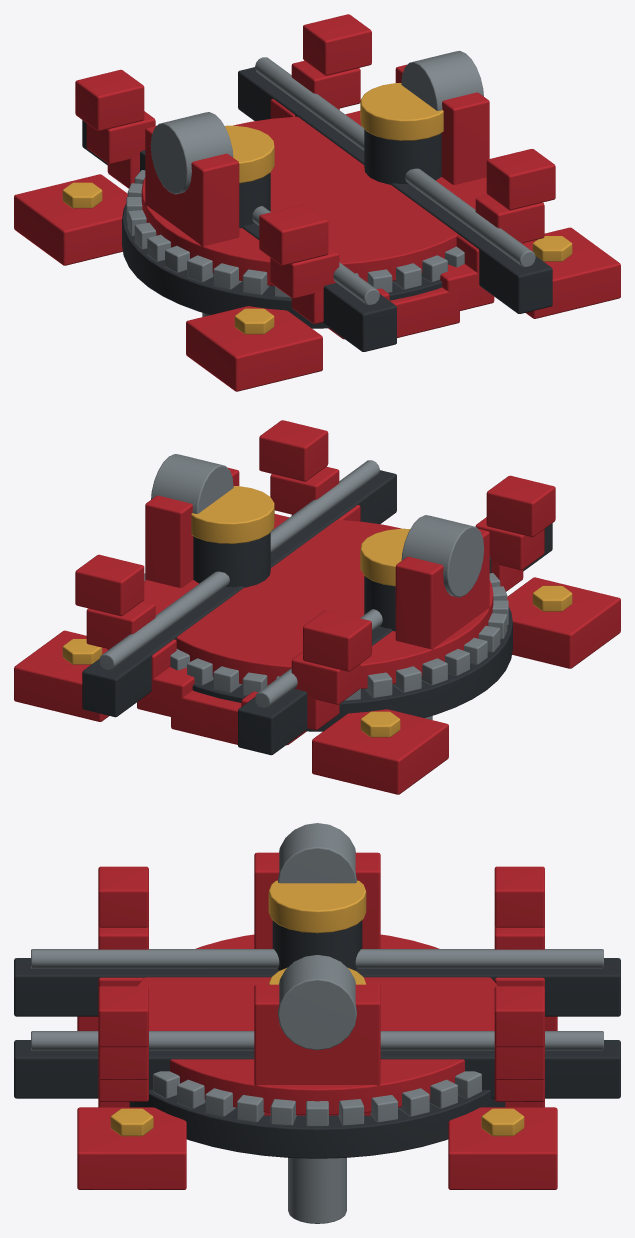
The model's file is MissileLauncher.glb.
3 views of the same model, one above another, from view 1: azimuth 30°, elevation 25°; view 2: azimuth 150°, elevation 25°; view 3: azimuth 270°, elevation 25° (orthographic). The views are drawn at different scales.
Parts seen in each view (by area): view 1: CradlePitch_Missile_Crimson, MissileLauncher_Missile_Crimson, TurretYaw_Missile_Crimson, CradlePitch_Missile_Iron, MountLift_Missile_Crimson, MountLift_Missile_Steel, CradlePitch_Missile_Steel, TurretYaw_Missile_Steel, TurretYaw_Missile_Gold, MissileLauncher_Missile_Iron, TurretYaw_Missile_Iron, MissileLauncher_Missile_Gold; view 2: CradlePitch_Missile_Crimson, TurretYaw_Missile_Crimson, MissileLauncher_Missile_Crimson, CradlePitch_Missile_Iron, MountLift_Missile_Crimson, MountLift_Missile_Steel, CradlePitch_Missile_Steel, TurretYaw_Missile_Steel, TurretYaw_Missile_Gold, MissileLauncher_Missile_Iron, TurretYaw_Missile_Iron, MissileLauncher_Missile_Gold; view 3: CradlePitch_Missile_Iron, CradlePitch_Missile_Crimson, TurretYaw_Missile_Crimson, CradlePitch_Missile_Steel, MissileLauncher_Missile_Crimson, MountLift_Missile_Steel, MountLift_Missile_Crimson, MissileLauncher_Missile_Iron, TurretYaw_Missile_Steel, TurretYaw_Missile_Gold, TurretYaw_Missile_Iron, MissileLauncher_Missile_Gold.
Part boxes in pixels (x1=…): CradlePitch_Missile_Crimson: x1=75, y1=14, x2=555, y2=339; MissileLauncher_Missile_Crimson: x1=14, y1=111, x2=620, y2=391; TurretYaw_Missile_Crimson: x1=141, y1=116, x2=487, y2=285; CradlePitch_Missile_Iron: x1=82, y1=67, x2=552, y2=351; MountLift_Missile_Crimson: x1=145, y1=64, x2=489, y2=246; MountLift_Missile_Steel: x1=150, y1=50, x2=483, y2=316; CradlePitch_Missile_Steel: x1=252, y1=57, x2=535, y2=305; TurretYaw_Missile_Steel: x1=126, y1=170, x2=464, y2=297; TurretYaw_Missile_Gold: x1=225, y1=83, x2=443, y2=183; MissileLauncher_Missile_Iron: x1=122, y1=204, x2=442, y2=328; TurretYaw_Missile_Iron: x1=239, y1=129, x2=441, y2=228; MissileLauncher_Missile_Gold: x1=62, y1=182, x2=572, y2=334; CradlePitch_Missile_Crimson: x1=75, y1=420, x2=555, y2=745; TurretYaw_Missile_Crimson: x1=143, y1=520, x2=493, y2=689; MissileLauncher_Missile_Crimson: x1=14, y1=514, x2=620, y2=794; CradlePitch_Missile_Iron: x1=82, y1=470, x2=552, y2=755; MountLift_Missile_Crimson: x1=145, y1=467, x2=489, y2=649; MountLift_Missile_Steel: x1=151, y1=454, x2=484, y2=719; CradlePitch_Missile_Steel: x1=99, y1=460, x2=382, y2=708; TurretYaw_Missile_Steel: x1=144, y1=573, x2=508, y2=701; TurretYaw_Missile_Gold: x1=191, y1=486, x2=410, y2=586; MissileLauncher_Missile_Iron: x1=192, y1=607, x2=512, y2=731; TurretYaw_Missile_Iron: x1=193, y1=532, x2=395, y2=631; MissileLauncher_Missile_Gold: x1=62, y1=585, x2=572, y2=737; CradlePitch_Missile_Iron: x1=14, y1=958, x2=620, y2=1098; CradlePitch_Missile_Crimson: x1=98, y1=866, x2=544, y2=1107; TurretYaw_Missile_Crimson: x1=137, y1=934, x2=497, y2=1114; CradlePitch_Missile_Steel: x1=31, y1=949, x2=603, y2=1050; MissileLauncher_Missile_Crimson: x1=77, y1=1016, x2=557, y2=1189; MountLift_Missile_Steel: x1=278, y1=823, x2=356, y2=1223; MountLift_Missile_Crimson: x1=254, y1=852, x2=380, y2=1115; MissileLauncher_Missile_Iron: x1=129, y1=1090, x2=505, y2=1158; TurretYaw_Missile_Steel: x1=153, y1=1071, x2=481, y2=1126; TurretYaw_Missile_Gold: x1=268, y1=880, x2=366, y2=984; TurretYaw_Missile_Iron: x1=272, y1=920, x2=362, y2=970; MissileLauncher_Missile_Gold: x1=110, y1=1108, x2=524, y2=1136.
Size of the model in its own units: 0.57 by 0.347 by 0.72.
